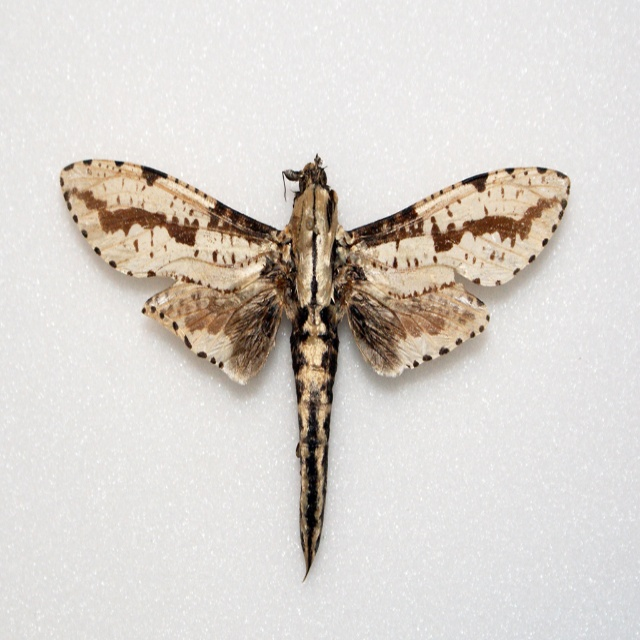Moths and butterflies: (57, 149, 571, 582)
